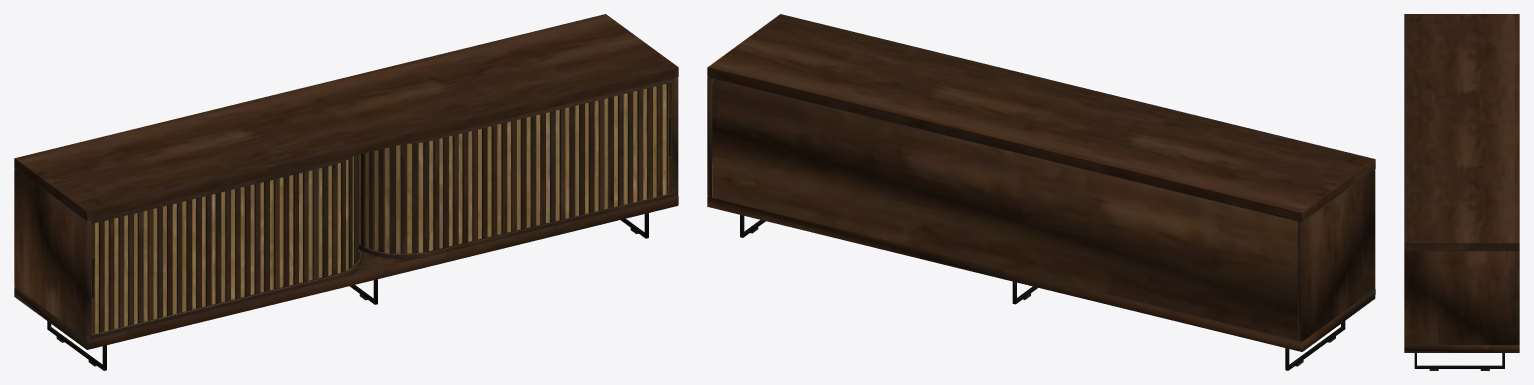
Rendered from PH-modern_wooden_cabinet.glb.
3 views of the same model, side by side, from view 1: azimuth 30°, elevation 25°; view 2: azimuth 150°, elevation 25°; view 3: azimuth 270°, elevation 25° (orthographic). The views are drawn at different scales.
Parts seen in each view (by area): view 1: modern_wooden_cabinet_body, modern_wooden_cabinet_door_r, modern_wooden_cabinet_door_l; view 2: modern_wooden_cabinet_body; view 3: modern_wooden_cabinet_body.
Part boxes in pixels (x1=…): modern_wooden_cabinet_body: x1=14, y1=14, x2=678, y2=370; modern_wooden_cabinet_door_r: x1=359, y1=82, x2=672, y2=253; modern_wooden_cabinet_door_l: x1=91, y1=155, x2=358, y2=334; modern_wooden_cabinet_body: x1=707, y1=14, x2=1375, y2=370; modern_wooden_cabinet_body: x1=1404, y1=14, x2=1519, y2=370.
Bounding box in the file's own units: 2.44 × 0.6801 × 0.5201.
1 material, 1 textured.
